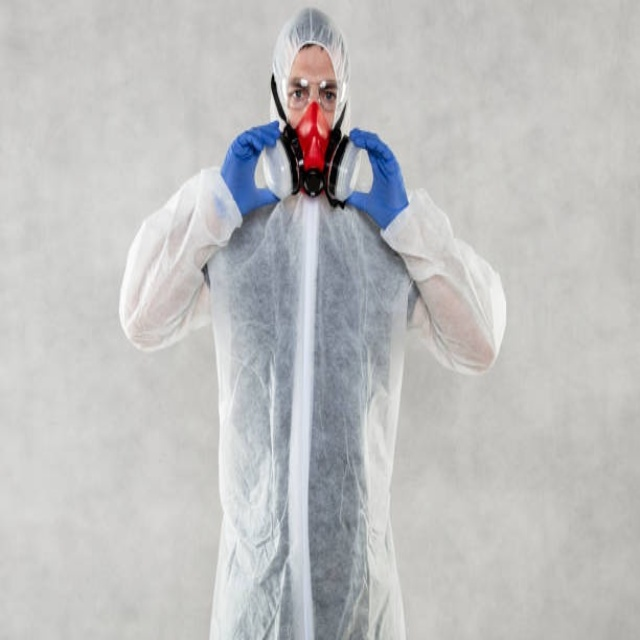Gafas: (287, 80, 340, 110)
Guantes: (344, 128, 409, 232), (220, 123, 282, 220)
Mascara: (284, 100, 334, 207)
